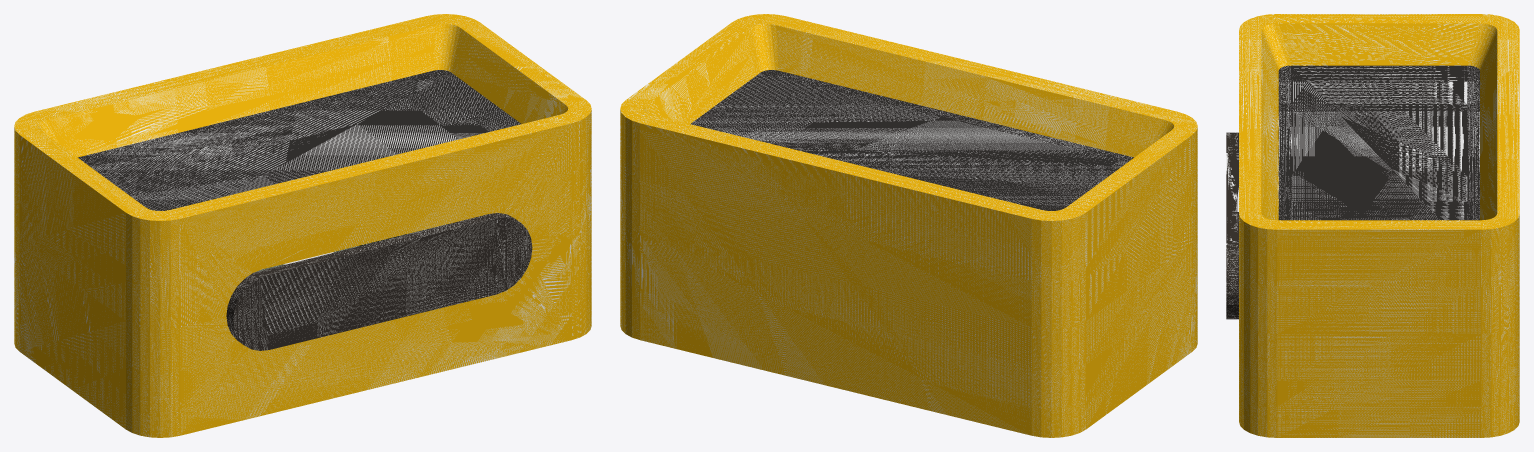
3 views of the same model, side by side, from view 1: azimuth 30°, elevation 25°; view 2: azimuth 150°, elevation 25°; view 3: azimuth 270°, elevation 25° (orthographic). The views are drawn at different scales.
Visible parts, largest first — view 1: slabang alarm clock; view 2: slabang alarm clock; view 3: slabang alarm clock.
Boxes of the visible parts, x1,y1,x2,y2 form: slabang alarm clock: (14,14,591,437); slabang alarm clock: (620,14,1197,437); slabang alarm clock: (1226,14,1519,437).
Bounding box in the file's own units: 5 × 2.25 × 2.88.
